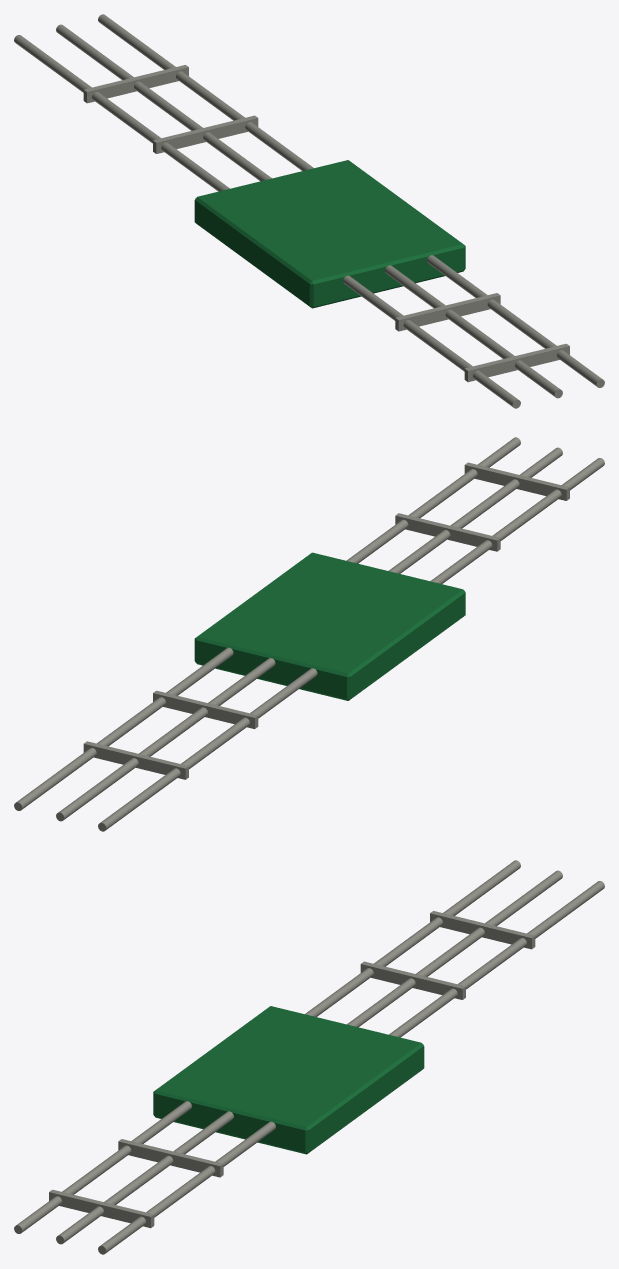
File: bunk500_power.obj
3 renders of one model, top to bottom at view 1: azimuth 30°, elevation 25°; view 2: azimuth 150°, elevation 25°; view 3: azimuth 330°, elevation 25°, orthographic.
Visible parts, largest first — view 1: bunk500_power; view 2: bunk500_power; view 3: bunk500_power.
Boxes of the visible parts, box(x1,y1,x2,y2) form: bunk500_power: box(14, 14, 604, 408); bunk500_power: box(14, 437, 604, 831); bunk500_power: box(14, 860, 604, 1254).
Bounding box in the file's own units: 2.6 × 0.445 × 14.4.
